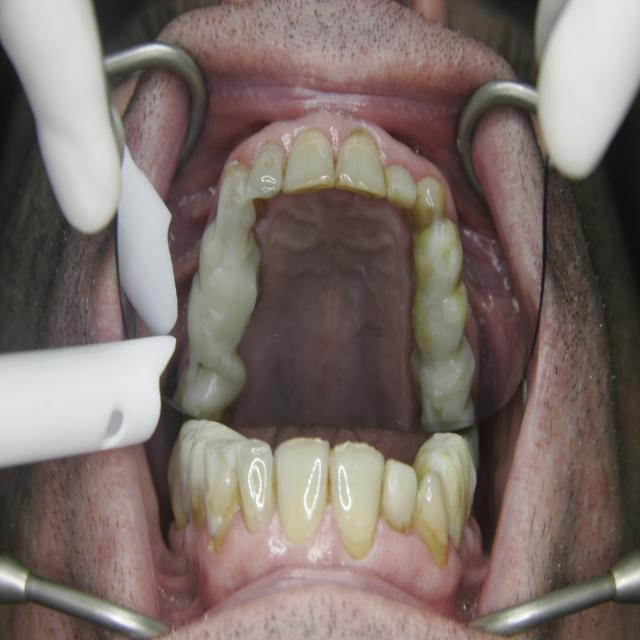tooth: (188, 209, 271, 305), (404, 274, 481, 371), (181, 266, 256, 360), (278, 114, 345, 217), (402, 210, 473, 301), (208, 156, 265, 267), (330, 120, 395, 216), (177, 338, 252, 421), (412, 337, 479, 415), (240, 132, 293, 216), (378, 146, 423, 220), (410, 161, 453, 235), (414, 393, 479, 428)
